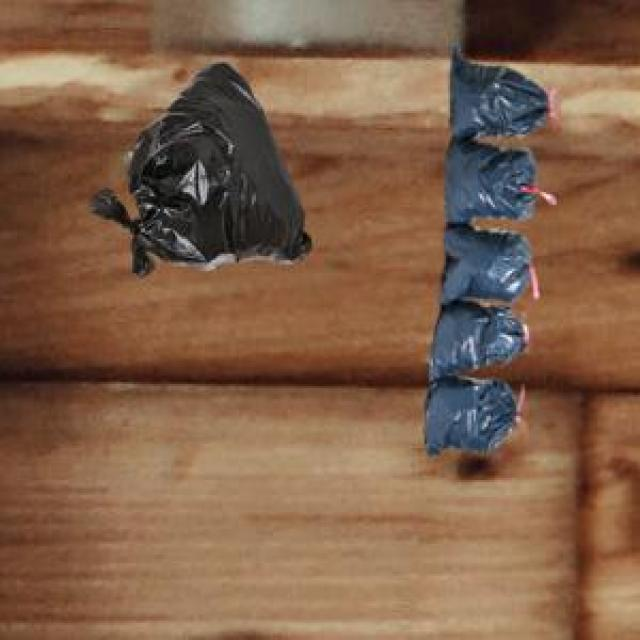Trashbag: (90, 55, 329, 286), (440, 43, 553, 150), (433, 128, 542, 227), (424, 293, 530, 383), (416, 371, 522, 459), (437, 215, 535, 308)
